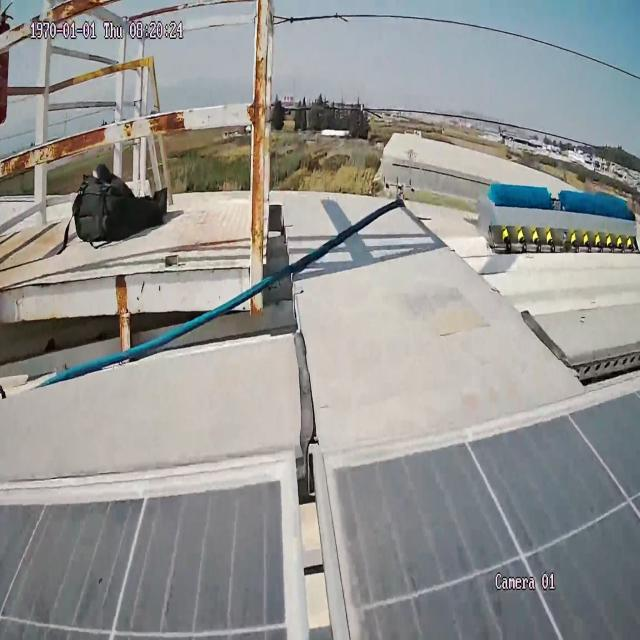interior panel: (241, 453, 387, 640)
